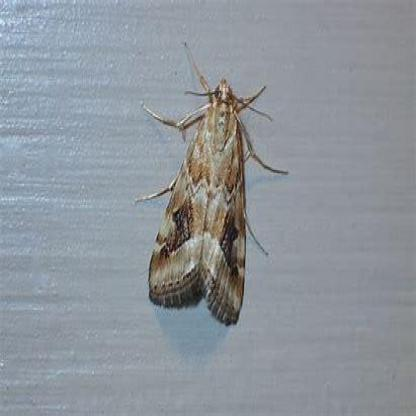Hellula undalis: (132, 37, 296, 333)
